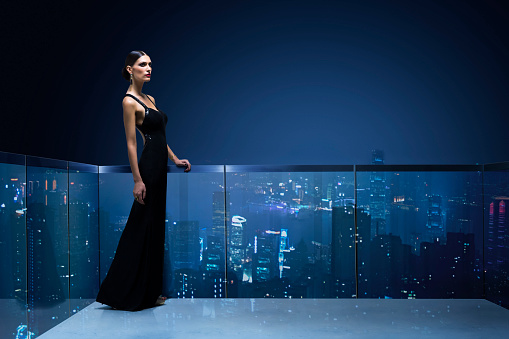em pe: (113, 31, 192, 312)
